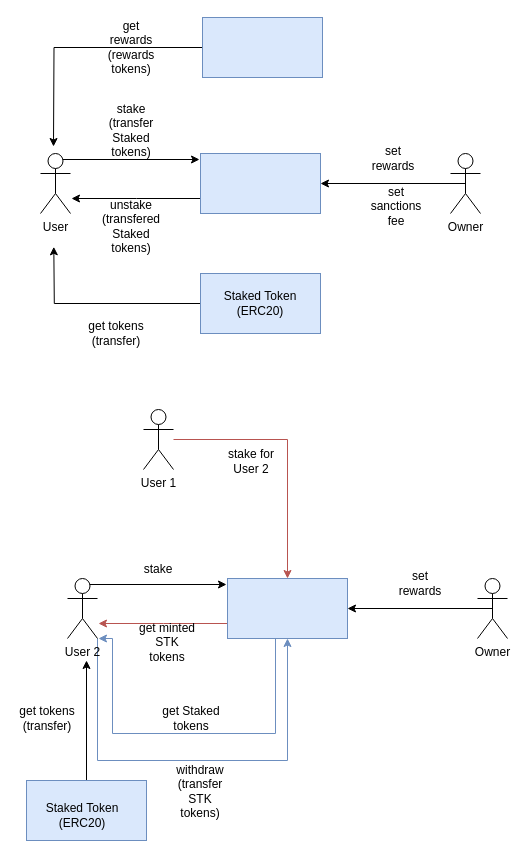
This 527x858 diagram has some shape labels left out. Here are the shapes that lost their labels. From the top down, the centre of each, then its label:
pixel 262 47: Reward Token (ERC20)
pixel 260 183: Staking
pixel 287 608: STK Staking (implemented ERc20)
